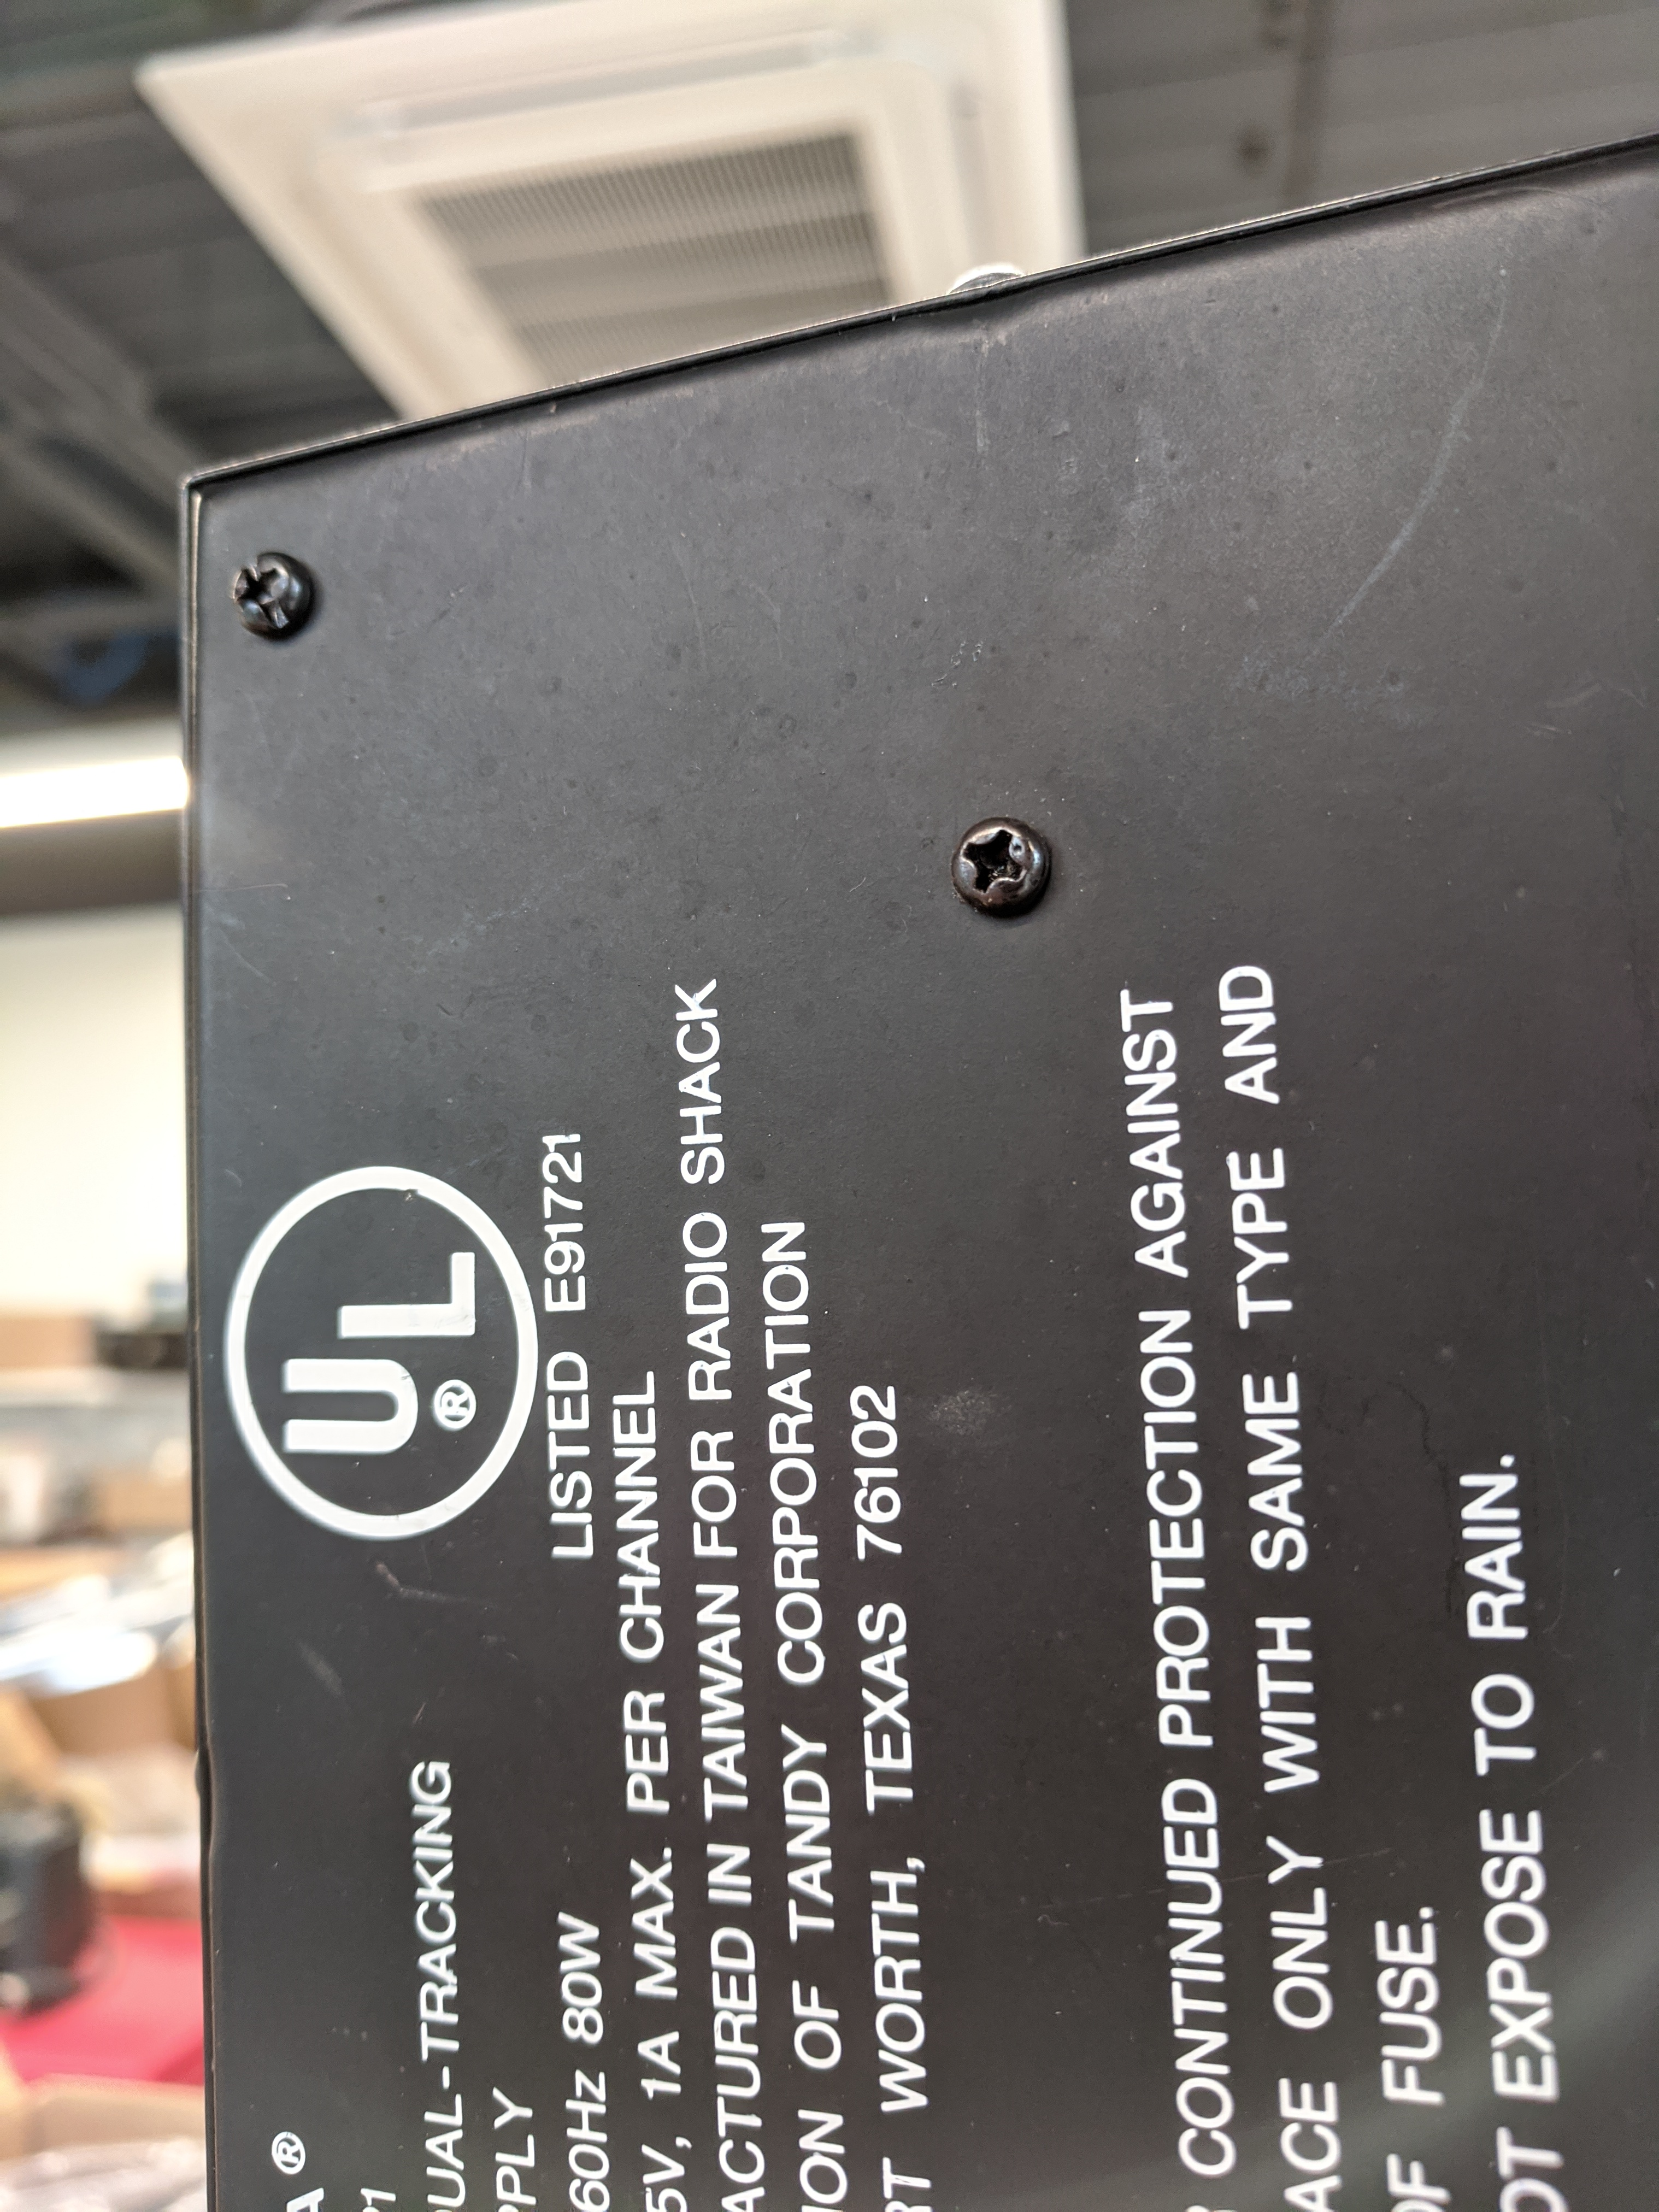cross_recessed_screw: (934, 799, 1061, 914), (225, 543, 328, 639)
